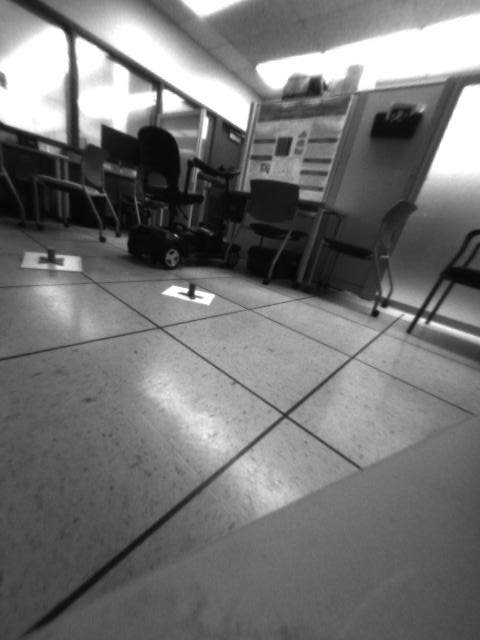X: (34, 246, 64, 268), (174, 281, 204, 301)
